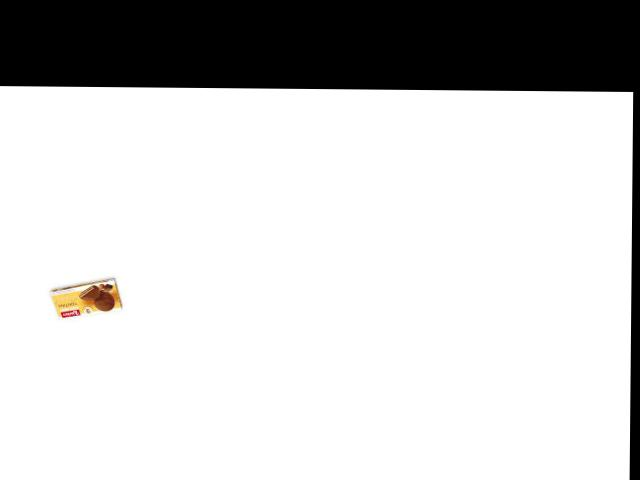chocolate: (38, 284, 127, 319)
